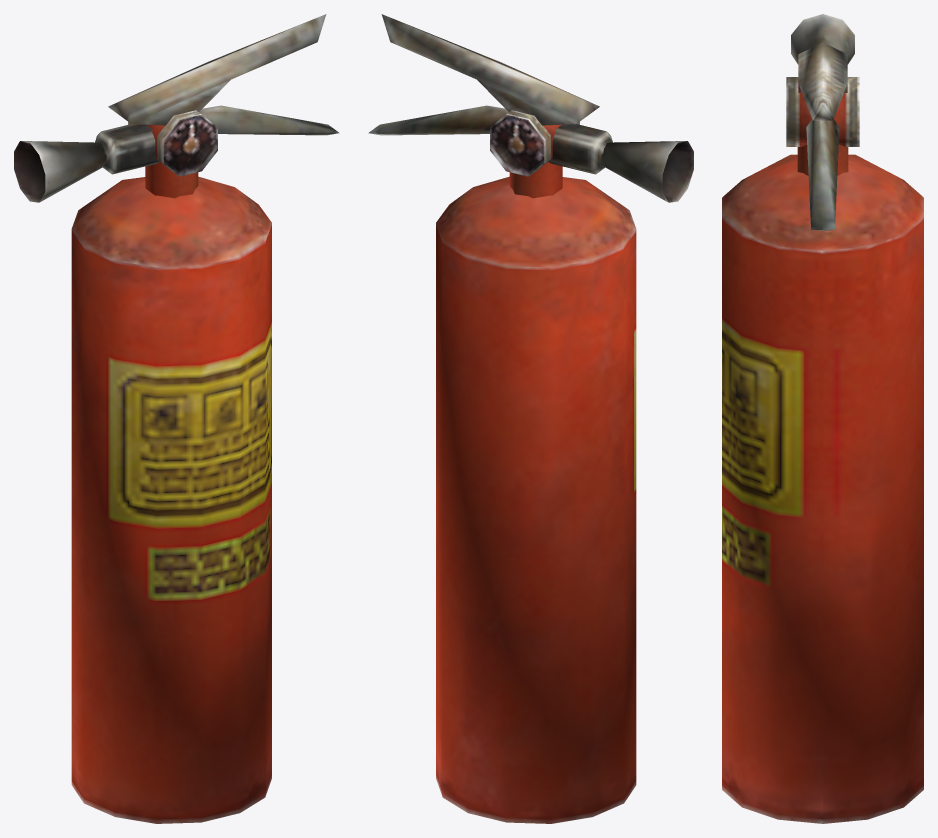
Rendered from fire ex 1.FBX.
3 renders of one model, left to right at view 1: azimuth 30°, elevation 25°; view 2: azimuth 150°, elevation 25°; view 3: azimuth 270°, elevation 25°, orthographic. The views are drawn at different scales.
Visible parts, largest first — view 1: Fire_extinguisher; view 2: Fire_extinguisher; view 3: Fire_extinguisher.
Part boxes in pixels (left/top/right/bottom): Fire_extinguisher: left=14, top=14, right=339, bottom=823; Fire_extinguisher: left=368, top=14, right=693, bottom=823; Fire_extinguisher: left=722, top=14, right=923, bottom=823.
Size of the model in its own units: 506 by 1161 by 282.
Materials: 1 (1 with a texture image).
